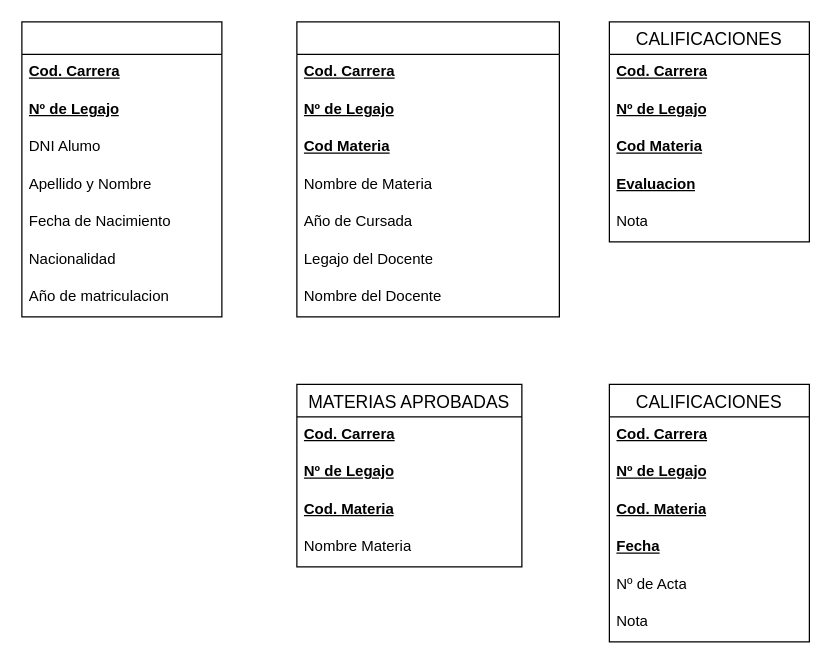
Some shapes in this 831 by 668 pixel diagram are drawn without their labels. Each missing label, with the box of its shape:
ESTUDIOS: (21, 21, 222, 317)
MATERIAS REGULARIZADAS: (296, 21, 559, 317)
